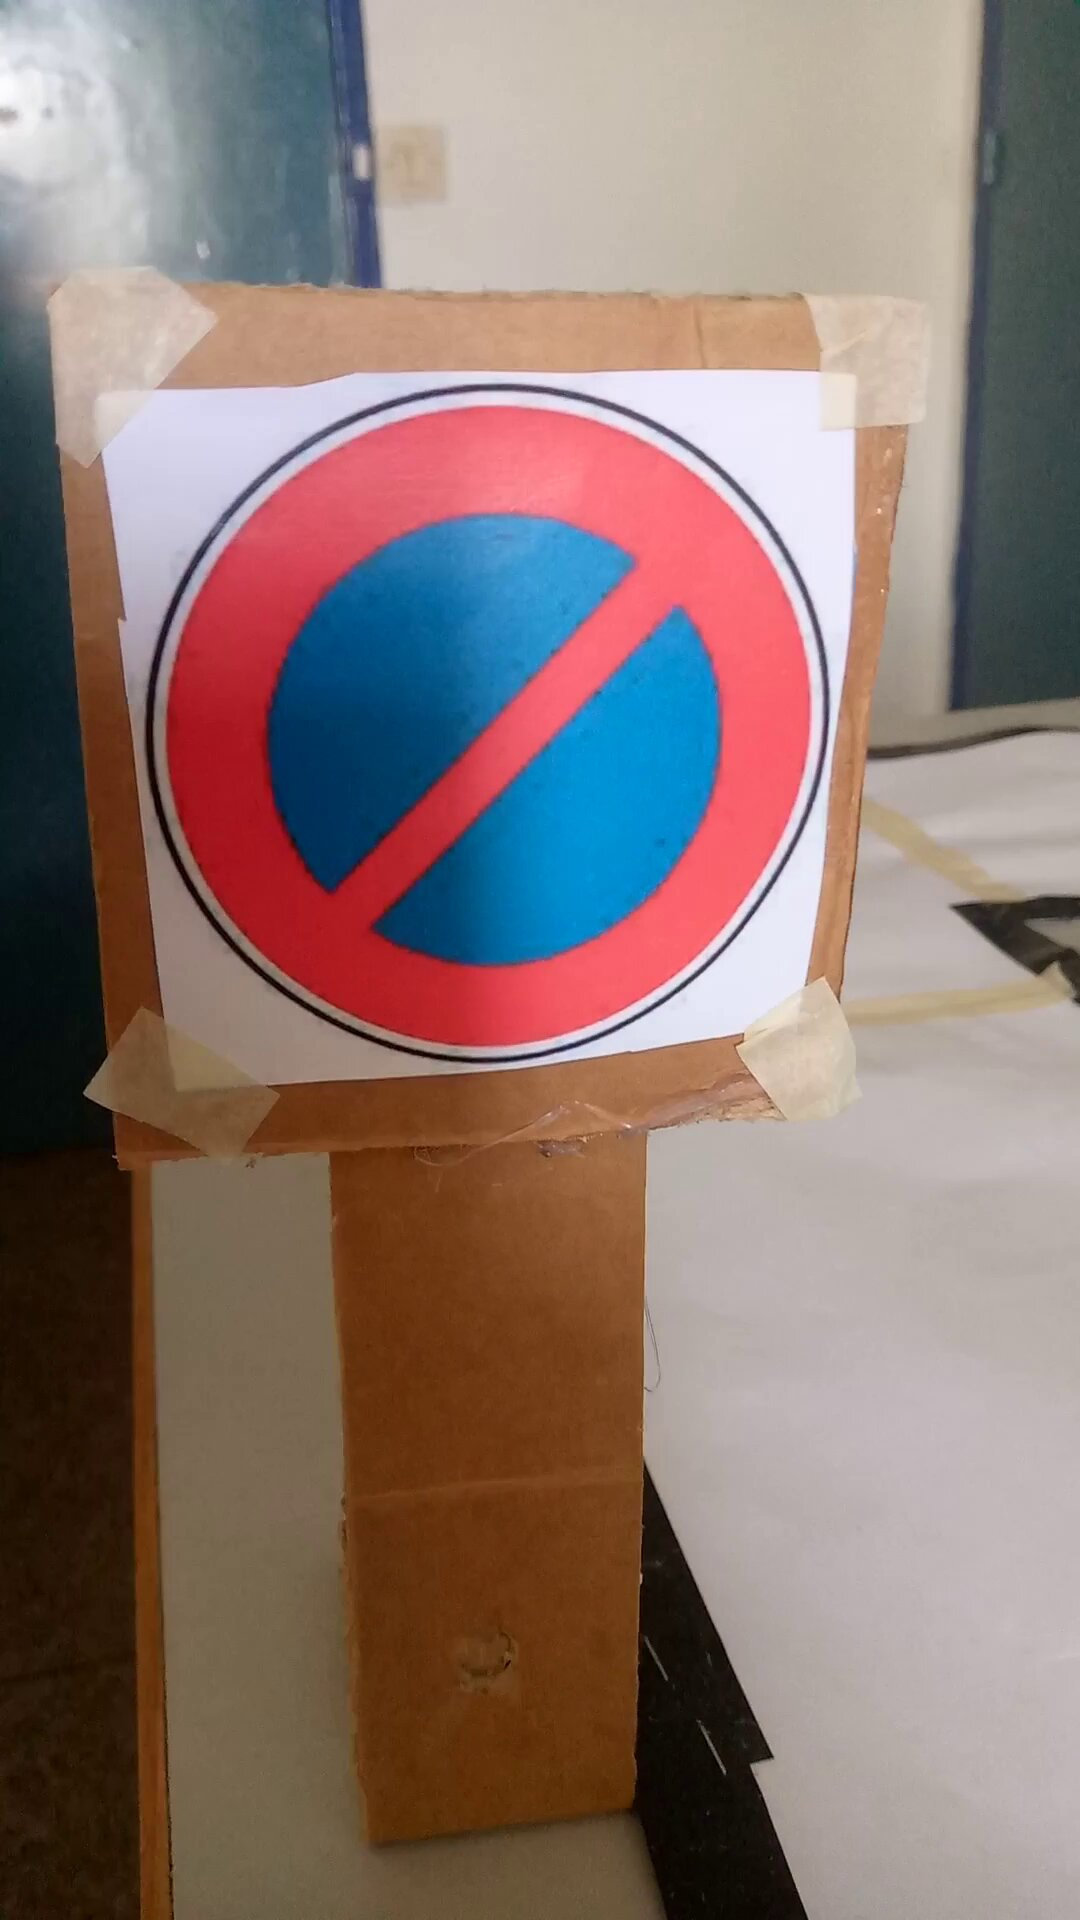panel110: (78, 380, 866, 1077)
